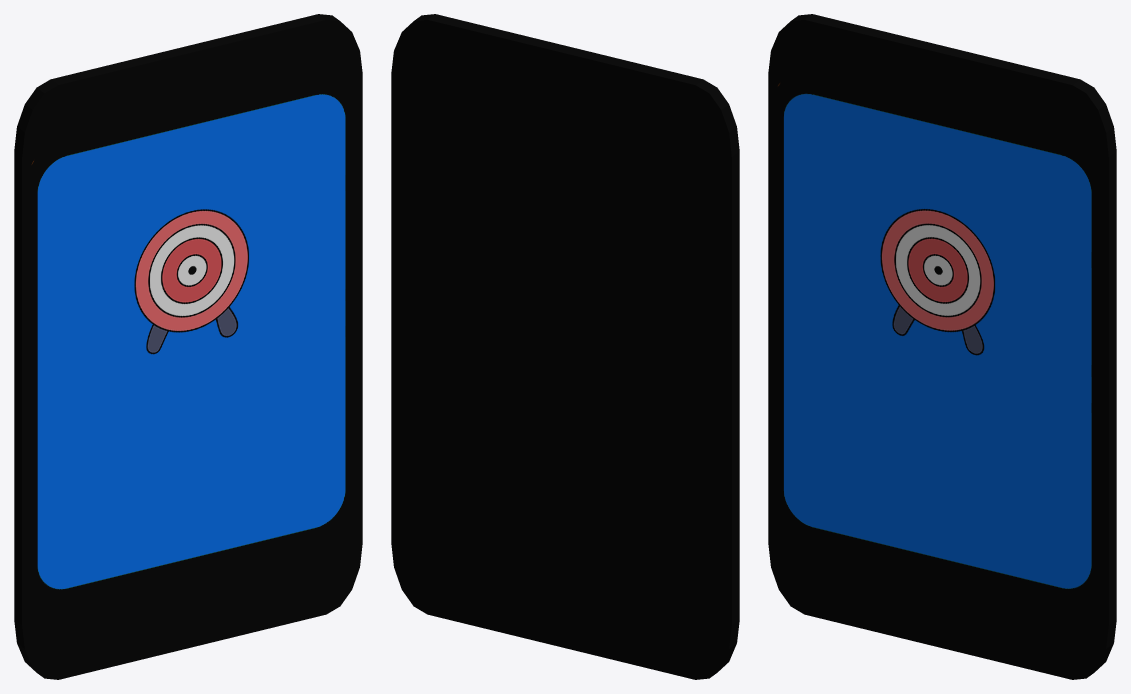
File: Hedef.fbx
3 renders of one model, left to right at view 1: azimuth 30°, elevation 25°; view 2: azimuth 150°, elevation 25°; view 3: azimuth 330°, elevation 25°, orthographic.
Visible parts, largest first — view 1: Cube; view 2: Cube; view 3: Cube.
Boxes of the visible parts, box(x1,y1,x2,y2) form: Cube: box(14, 14, 362, 679); Cube: box(391, 14, 739, 679); Cube: box(768, 14, 1116, 679).
Size of the model in its own units: 302 by 504 by 12.15.
Materials: 2 (1 with a texture image).
